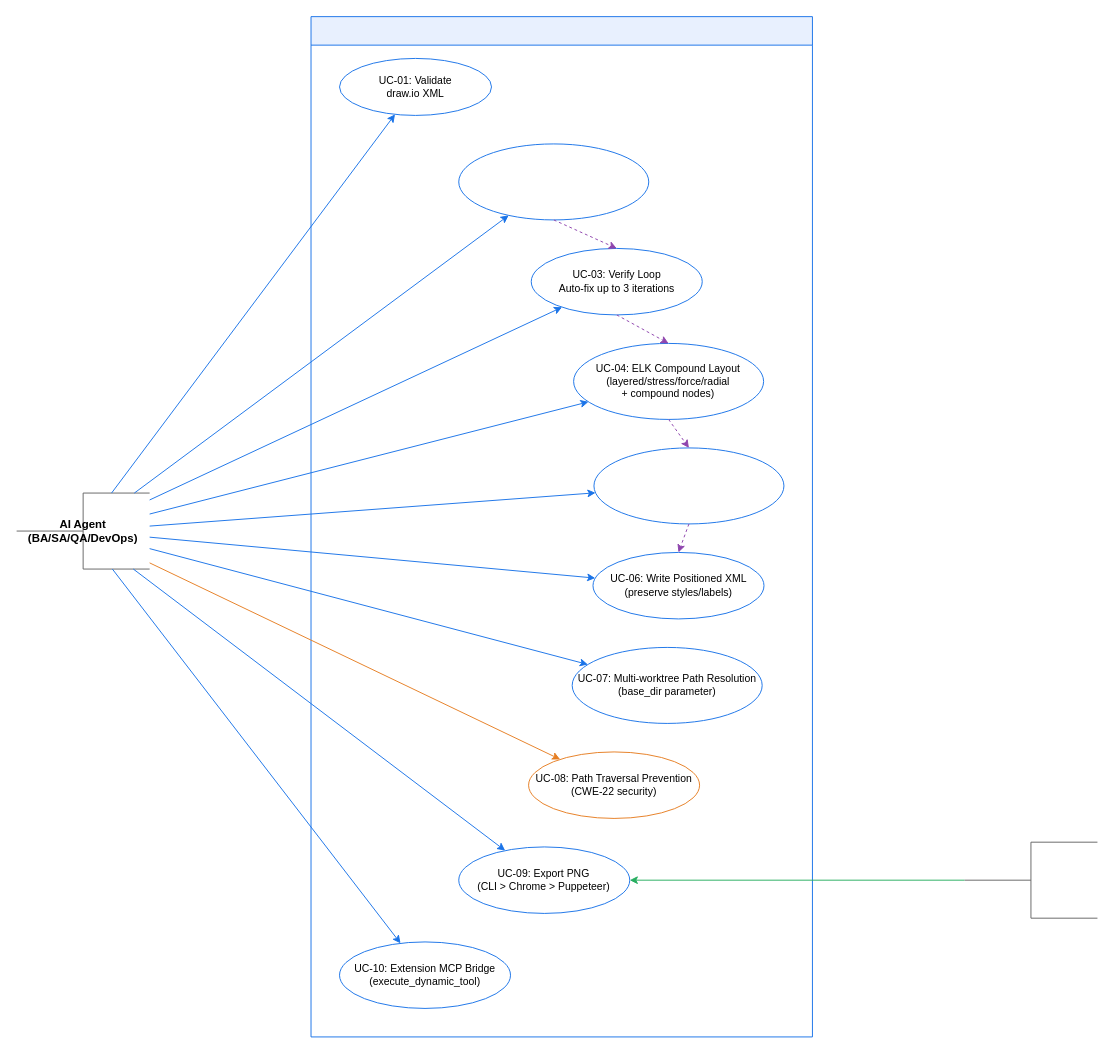
This 1114x1054 diagram has some shape labels left out. Each missing label, with the box of its shape:
drawio_auto_layout System: (310, 16, 812, 1037)
End User (Document Consumer): (963, 841, 1097, 918)
UC-02: Detect Layout Issues (5% overlap, 40px gap, crossings, diagonals): (458, 143, 649, 220)
UC-05: Orthogonal Edge Routing (L-shape/Z-shape + 40px gap): (593, 447, 784, 524)
